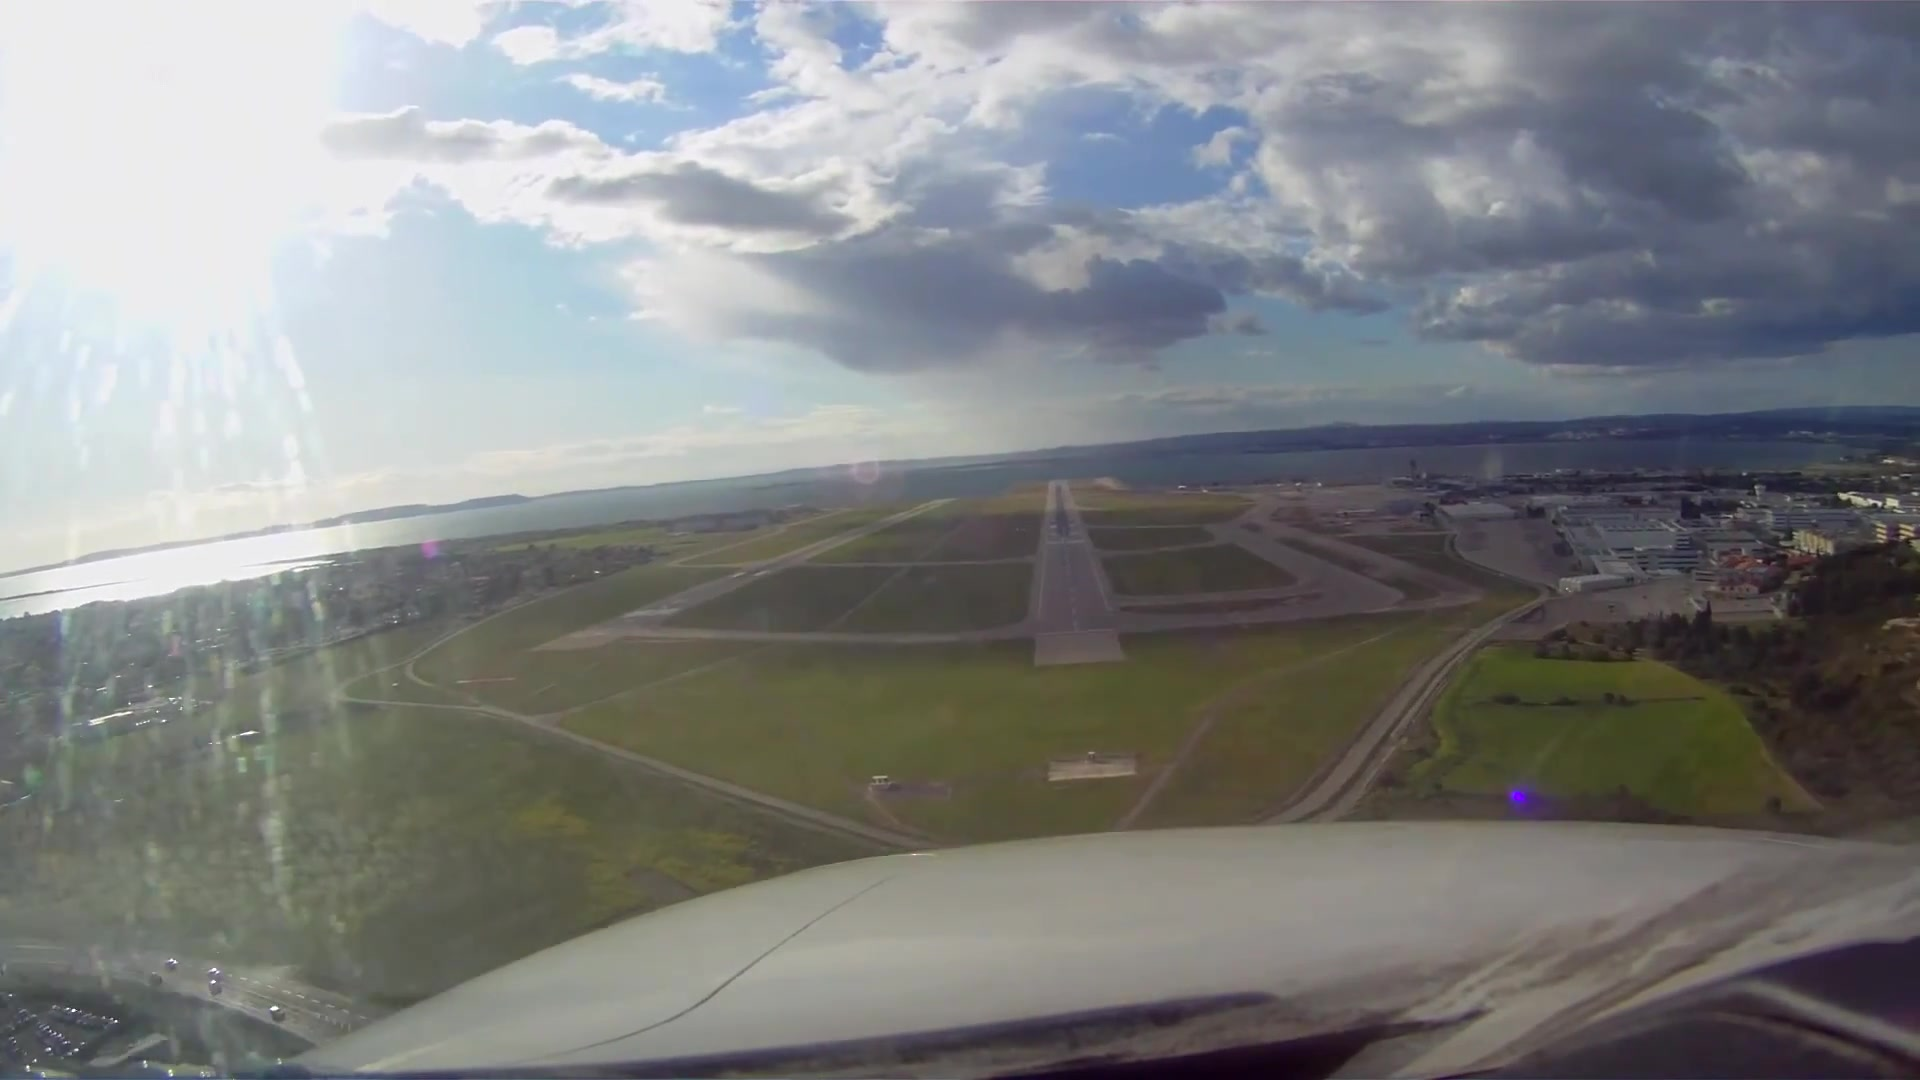runway: (1025, 477, 1118, 636)
